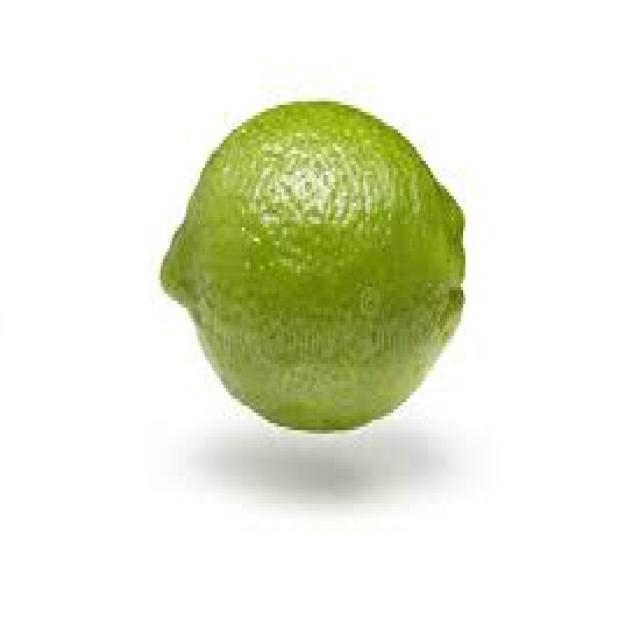Lemon: (158, 94, 470, 436)
